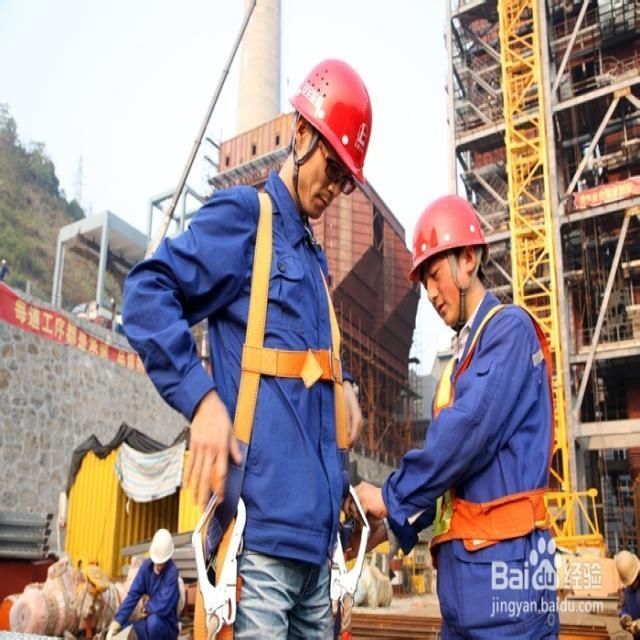Arnes_seguridad: (213, 180, 352, 495)
